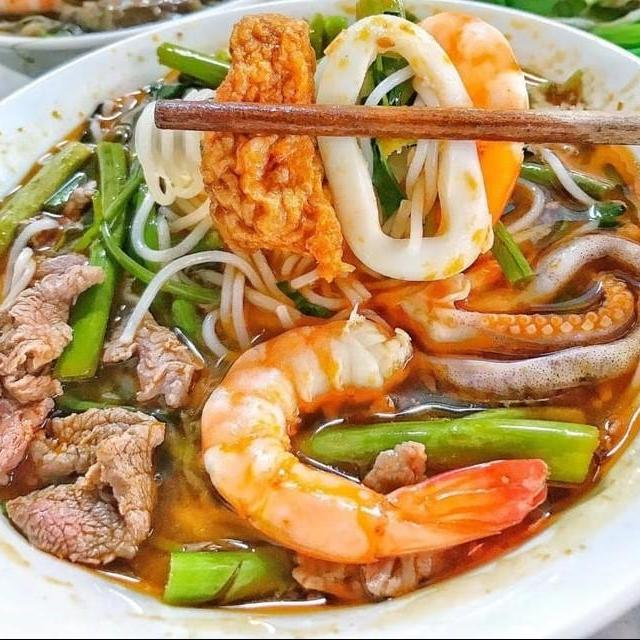bun: (116, 87, 258, 366), (182, 243, 380, 364)
bun hai san: (0, 39, 640, 639)
muc: (298, 8, 500, 288)
thit bo: (0, 398, 172, 571), (288, 432, 442, 610), (0, 244, 104, 489), (92, 270, 204, 414)
tom: (192, 316, 556, 570)
